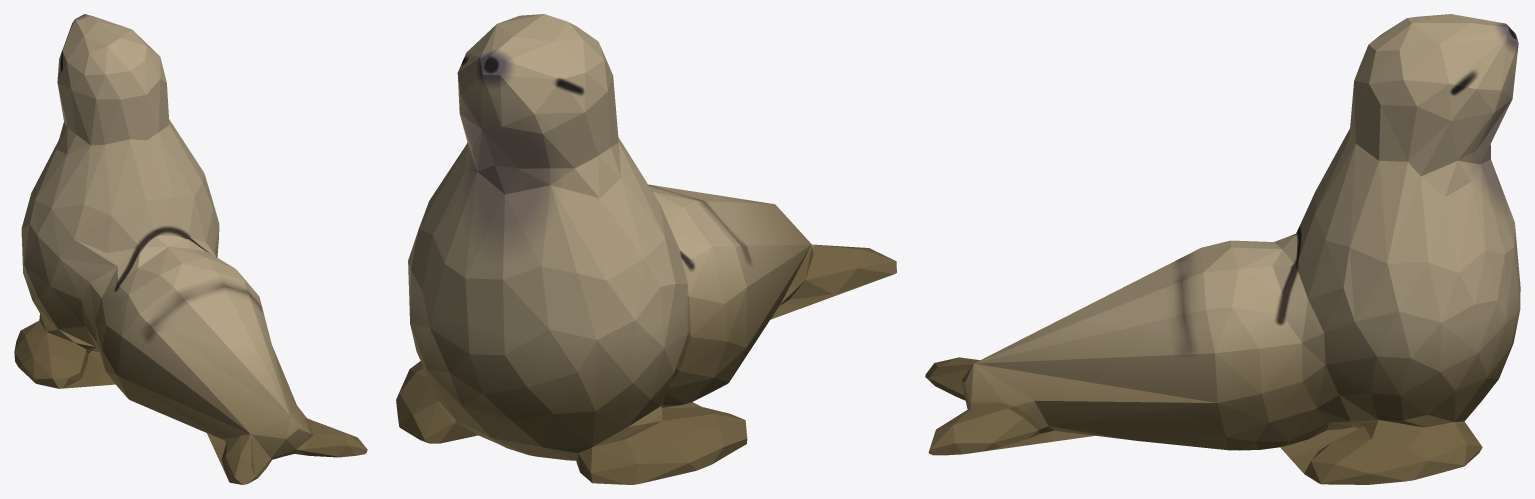
Rendered from animal_sealion_female_blob.obj.
The picture shows the model from 3 angles, left to right: view 1: azimuth 30°, elevation 25°; view 2: azimuth 150°, elevation 25°; view 3: azimuth 270°, elevation 25°; orthographic projection. The views are drawn at different scales.
Parts seen in each view (by area): view 1: animal_sealion_female_blob; view 2: animal_sealion_female_blob; view 3: animal_sealion_female_blob.
Boxes of the visible parts, x1,y1,x2,y2 form: animal_sealion_female_blob: [14, 14, 367, 484]; animal_sealion_female_blob: [396, 14, 896, 484]; animal_sealion_female_blob: [925, 14, 1520, 484].
Size of the model in its own units: 0.7918 by 0.9973 by 1.38.
